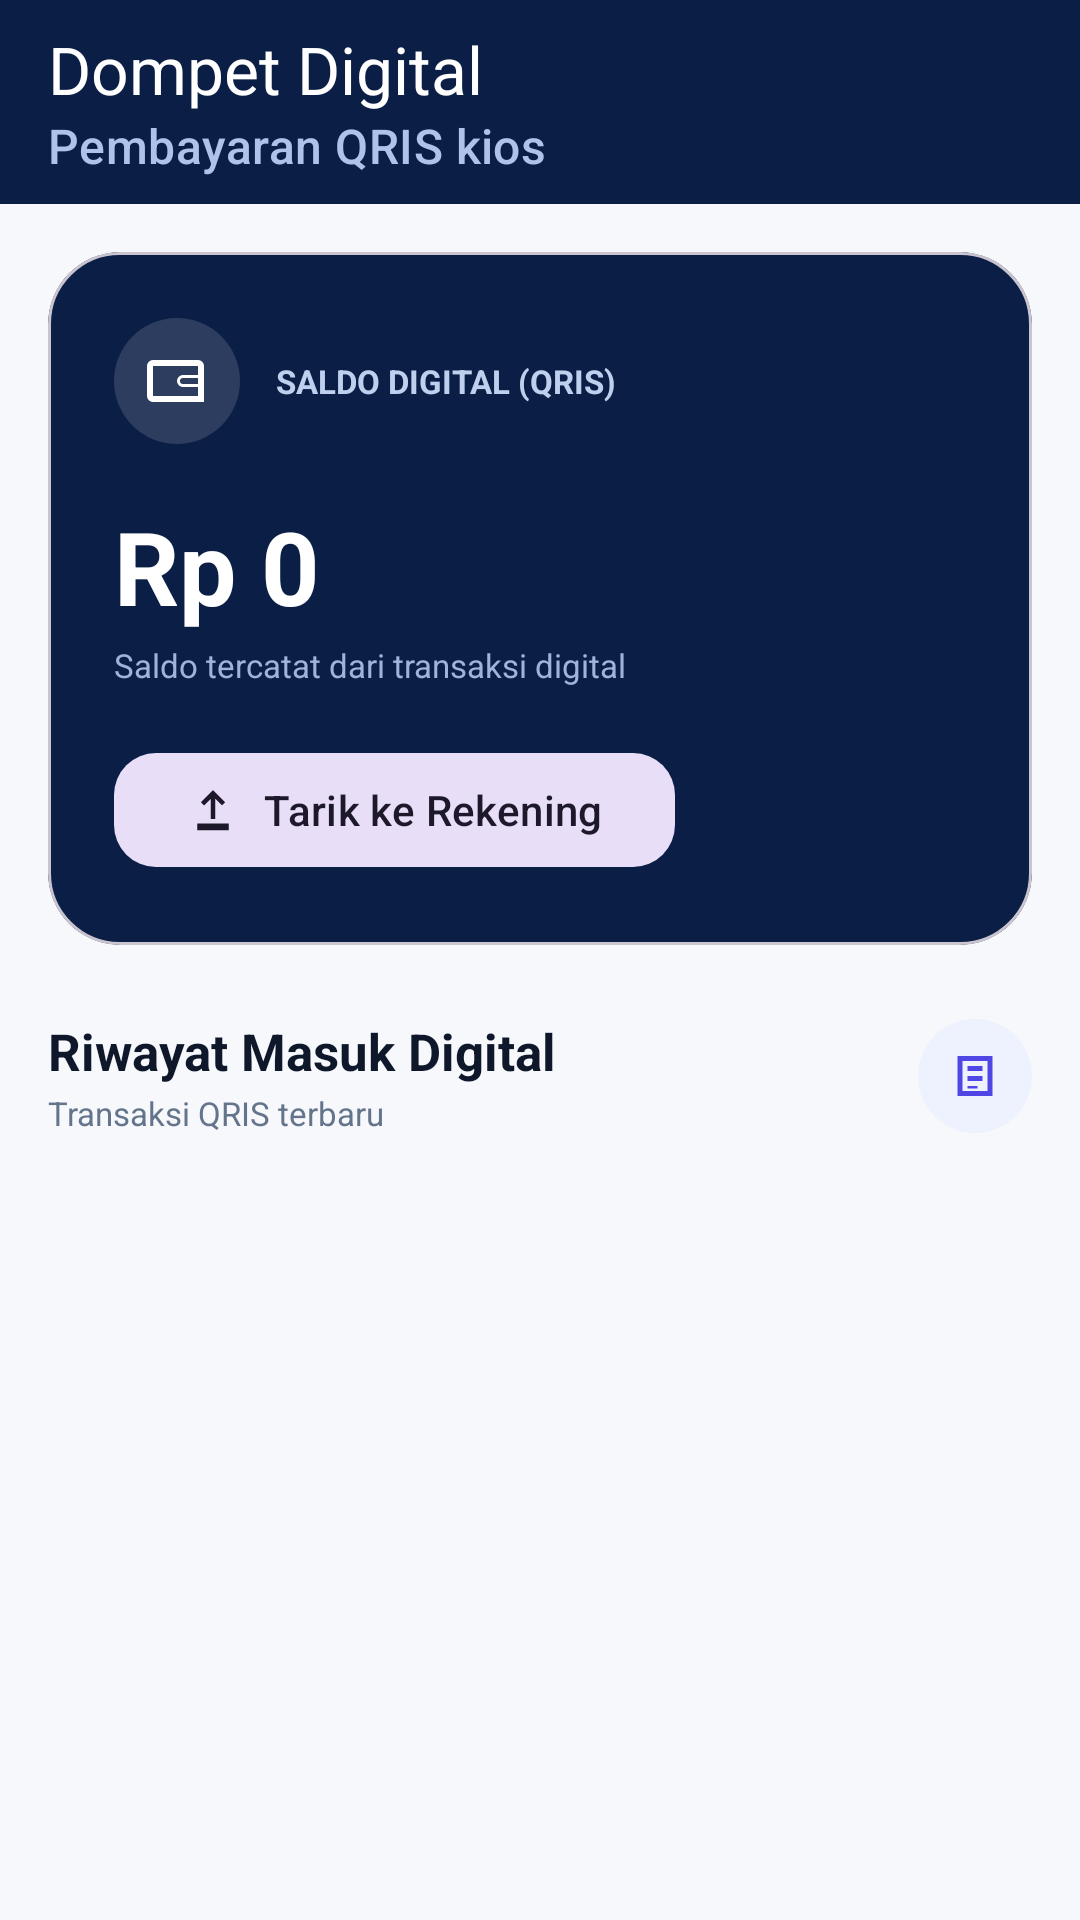

Named icons in this screenshot (1080 × 1920) and their centers, point (x, y):
transactions: point (975, 1076)
wallet: point (177, 381)
